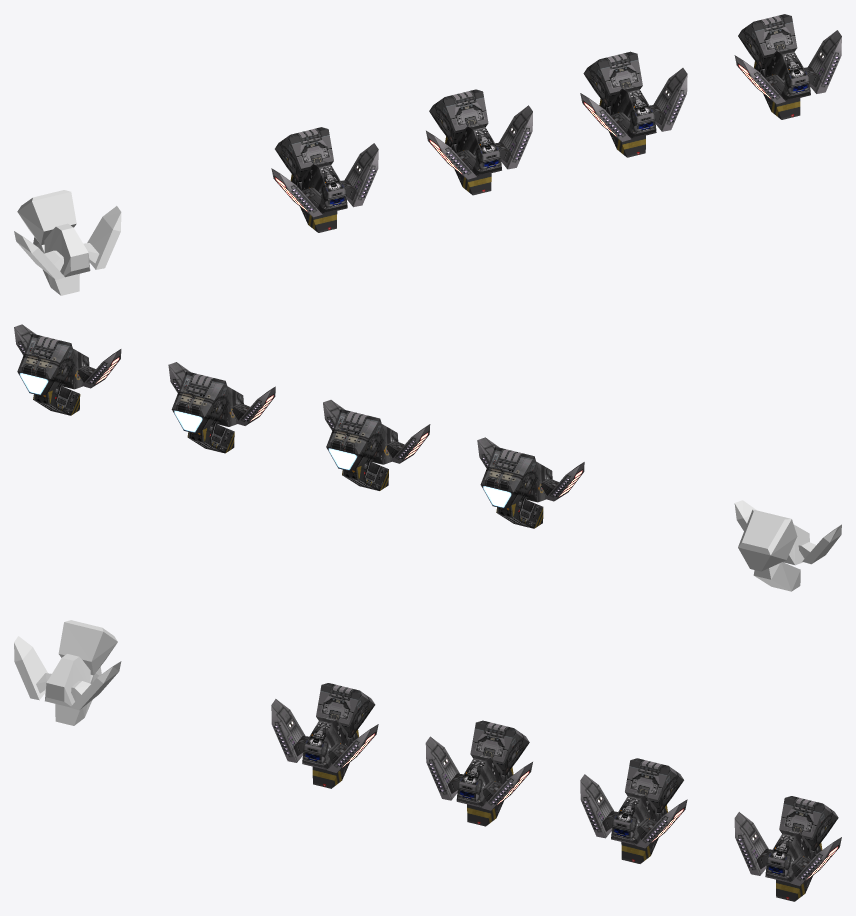
The model's file is smt_mimic.DAE.
The picture shows the model from 3 angles, top to bottom: view 1: azimuth 30°, elevation 25°; view 2: azimuth 150°, elevation 25°; view 3: azimuth 330°, elevation 25°; orthographic projection.
Parts seen in each view (by area): view 1: MULT[root_mesh]_LOD[3], MULT[root_mesh]_LOD[1], MULT[root_mesh]_LOD[2], COL[Root], MULT[root_mesh]_LOD[0], MULT[wingleft]_LOD[0], MULT[wingleft]_LOD[2], COL[Hardpoint_WingLeft_Position], MULT[wingleft]_LOD[3], MULT[wingleft]_LOD[1], MULT[wingright]_LOD[1], MULT[wingright]_LOD[2] (+3 smaller); view 2: MULT[root_mesh]_LOD[0], MULT[root_mesh]_LOD[2], COL[Root], MULT[root_mesh]_LOD[1], MULT[root_mesh]_LOD[3], MULT[wingright]_LOD[2], MULT[wingright]_LOD[0], MULT[wingright]_LOD[1], MULT[wingright]_LOD[3], COL[Hardpoint_WingRight_Position]; view 3: MULT[root_mesh]_LOD[0], COL[Root], MULT[root_mesh]_LOD[2], MULT[root_mesh]_LOD[1], MULT[root_mesh]_LOD[3], MULT[wingright]_LOD[0], MULT[wingright]_LOD[2], MULT[wingright]_LOD[3], COL[Hardpoint_WingRight_Position], MULT[wingright]_LOD[1], MULT[wingleft]_LOD[0], COL[Hardpoint_WingLeft_Position] (+3 smaller).
Boxes of the visible parts, box(x1,y1,x2,y2) form: MULT[root_mesh]_LOD[3]: box(738, 14, 810, 119); MULT[root_mesh]_LOD[1]: box(429, 89, 501, 195); MULT[root_mesh]_LOD[2]: box(583, 51, 656, 157); COL[Root]: box(17, 190, 90, 295); MULT[root_mesh]_LOD[0]: box(275, 127, 347, 232); MULT[wingleft]_LOD[0]: box(341, 143, 378, 207); MULT[wingleft]_LOD[2]: box(650, 68, 687, 131); COL[Hardpoint_WingLeft_Position]: box(83, 206, 121, 269); MULT[wingleft]_LOD[3]: box(804, 30, 841, 93); MULT[wingleft]_LOD[1]: box(495, 105, 532, 169); MULT[wingright]_LOD[1]: box(426, 130, 476, 179); MULT[wingright]_LOD[2]: box(580, 93, 630, 141); MULT[root_mesh]_LOD[0]: box(480, 446, 552, 528); MULT[root_mesh]_LOD[2]: box(171, 371, 243, 453); COL[Root]: box(738, 509, 809, 591); MULT[root_mesh]_LOD[1]: box(326, 409, 398, 490); MULT[root_mesh]_LOD[3]: box(17, 333, 89, 415); MULT[wingright]_LOD[2]: box(232, 386, 275, 425); MULT[wingright]_LOD[0]: box(541, 462, 584, 501); MULT[wingright]_LOD[1]: box(387, 424, 430, 463); MULT[wingright]_LOD[3]: box(78, 349, 121, 388); COL[Hardpoint_WingRight_Position]: box(798, 524, 841, 564); MULT[root_mesh]_LOD[0]: box(302, 683, 375, 788); COL[Root]: box(45, 620, 117, 725); MULT[root_mesh]_LOD[2]: box(611, 758, 683, 863); MULT[root_mesh]_LOD[1]: box(456, 720, 529, 826); MULT[root_mesh]_LOD[3]: box(765, 796, 838, 901); MULT[wingright]_LOD[0]: box(271, 699, 308, 762); MULT[wingright]_LOD[2]: box(580, 774, 617, 838); MULT[wingright]_LOD[3]: box(734, 812, 771, 875); COL[Hardpoint_WingRight_Position]: box(14, 636, 51, 700); MULT[wingright]_LOD[1]: box(425, 736, 463, 800); MULT[wingleft]_LOD[0]: box(327, 724, 378, 772); COL[Hardpoint_WingLeft_Position]: box(70, 661, 121, 710).
Bounding box in the file's own units: 177 × 17.27 × 17.46.
19 materials, 19 textured.
